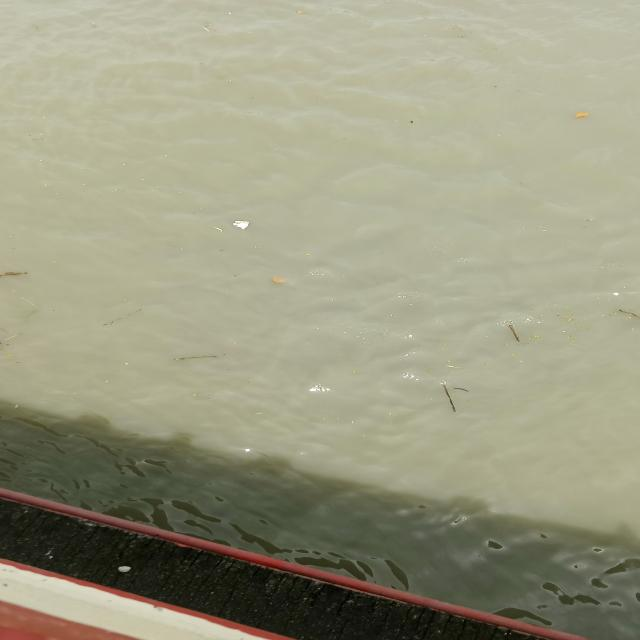Organic Debris: (421, 375, 474, 419), (151, 344, 237, 368), (491, 316, 537, 352), (609, 298, 640, 326)
Plastic: (227, 215, 263, 235)
